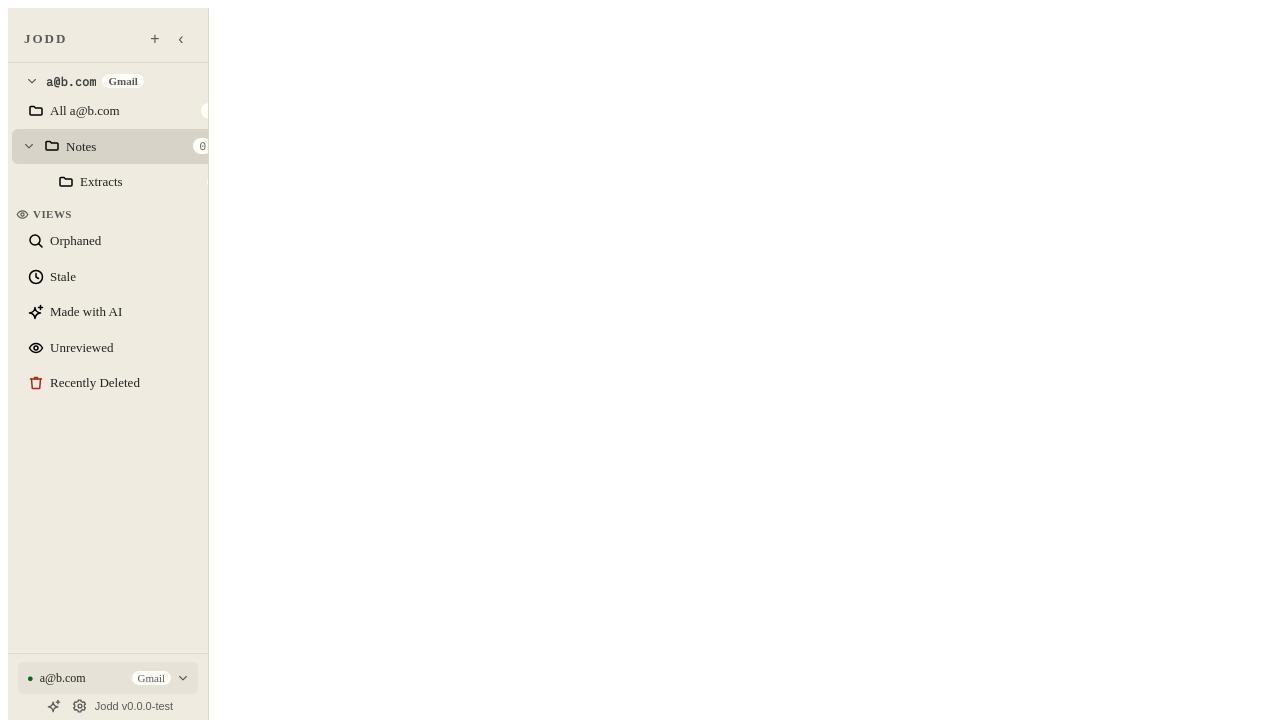
Test case: Sidebar text prompt › Enter confirms with the typed value
The width and height of the screenshot is (1280, 720).
Right-click the button titled "Extracts": (101, 182) 58,174 -> 226,190
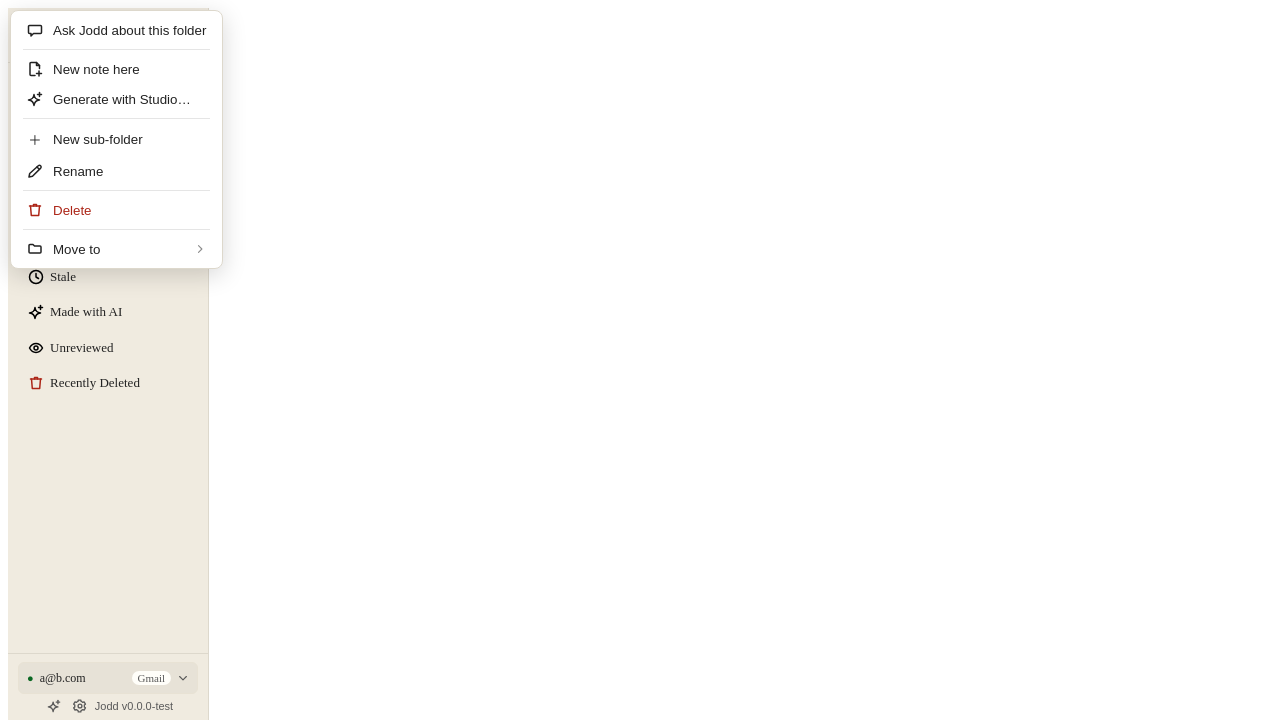
Click the button "Rename": (117, 171) 15,156 -> 218,186
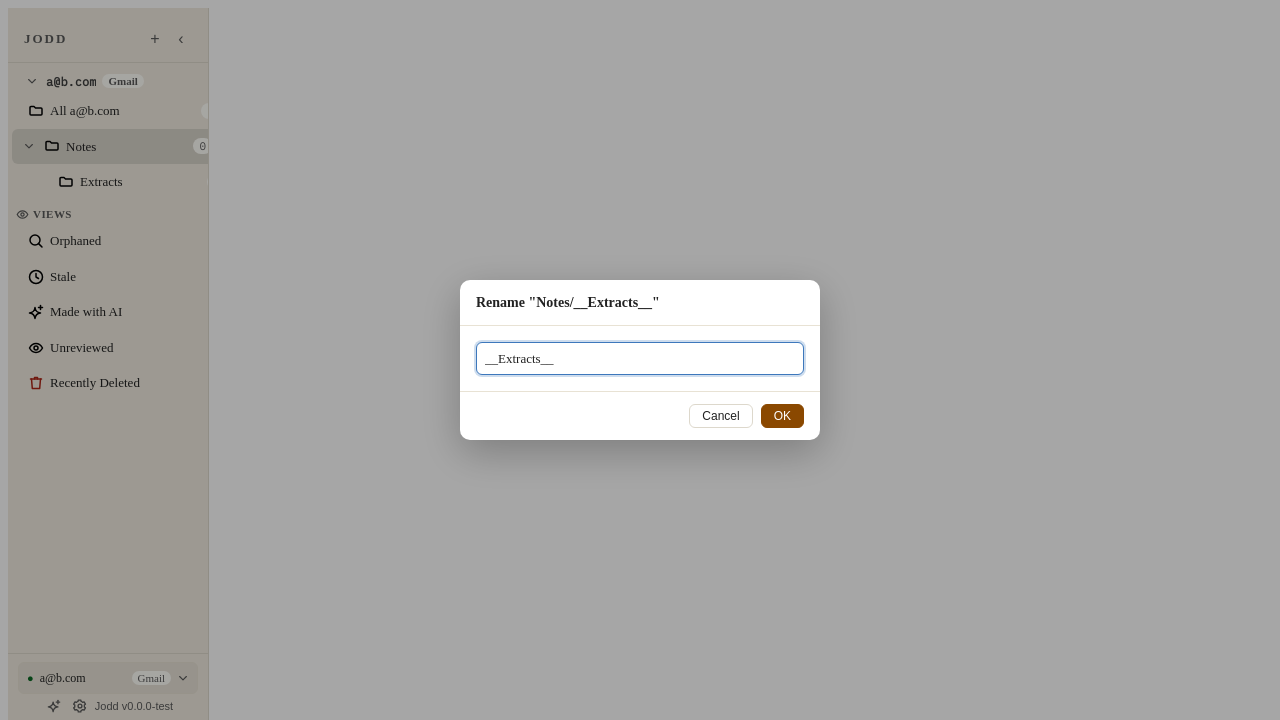
Replace the text in the field with "  Renamed  ": (640, 359) 476,342 -> 804,375
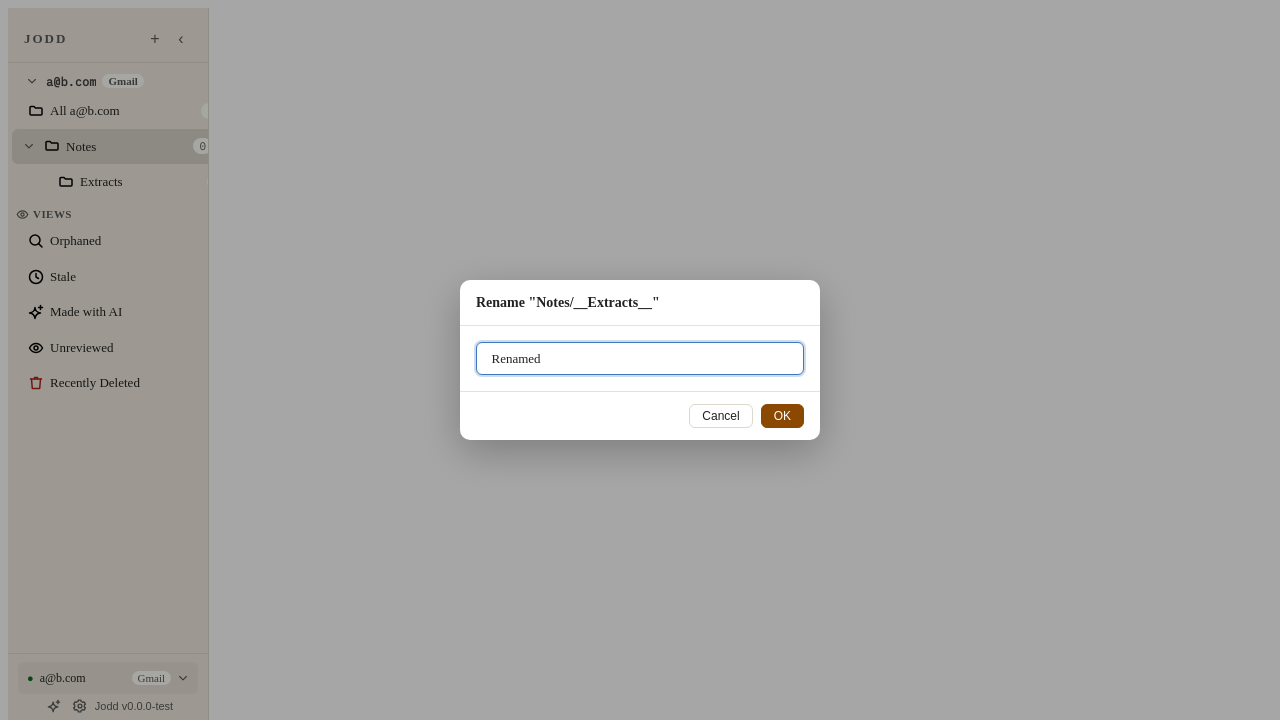
Press Enter in the field, box 476,342 -> 804,375
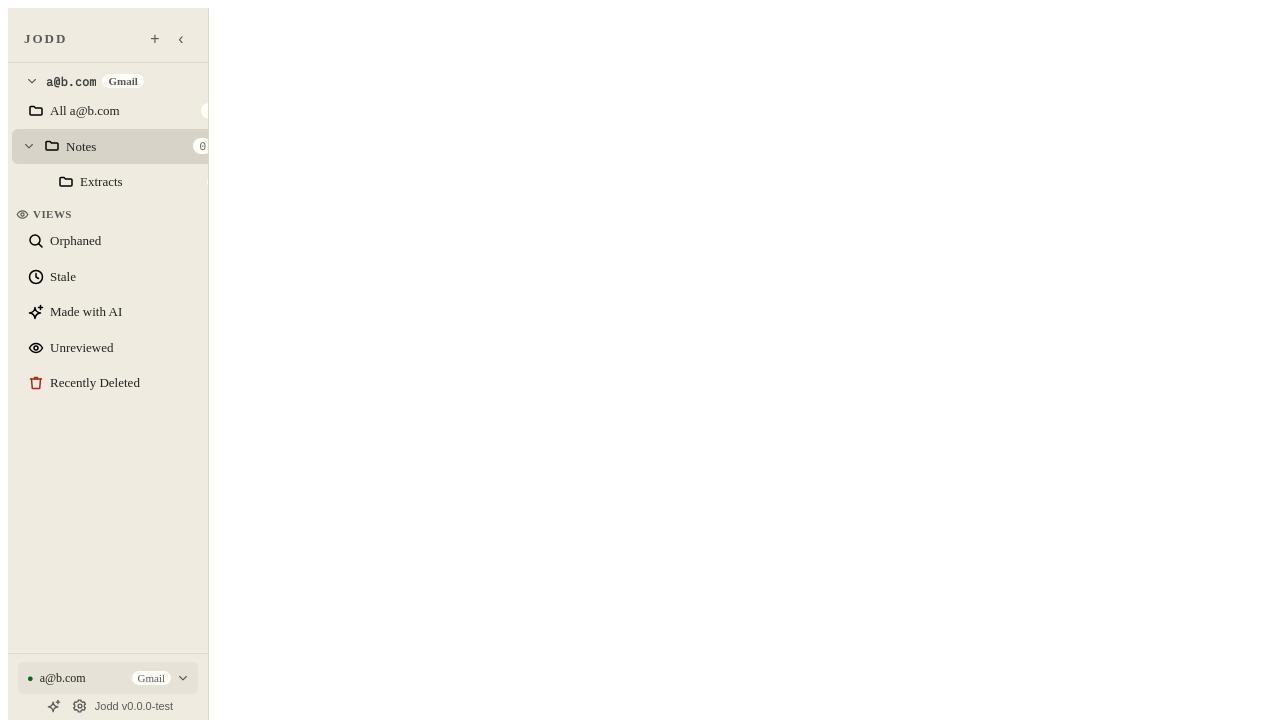
Result: the dialog is gone
